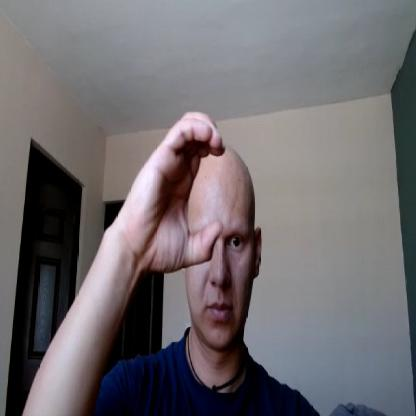C: (129, 112, 222, 274)
